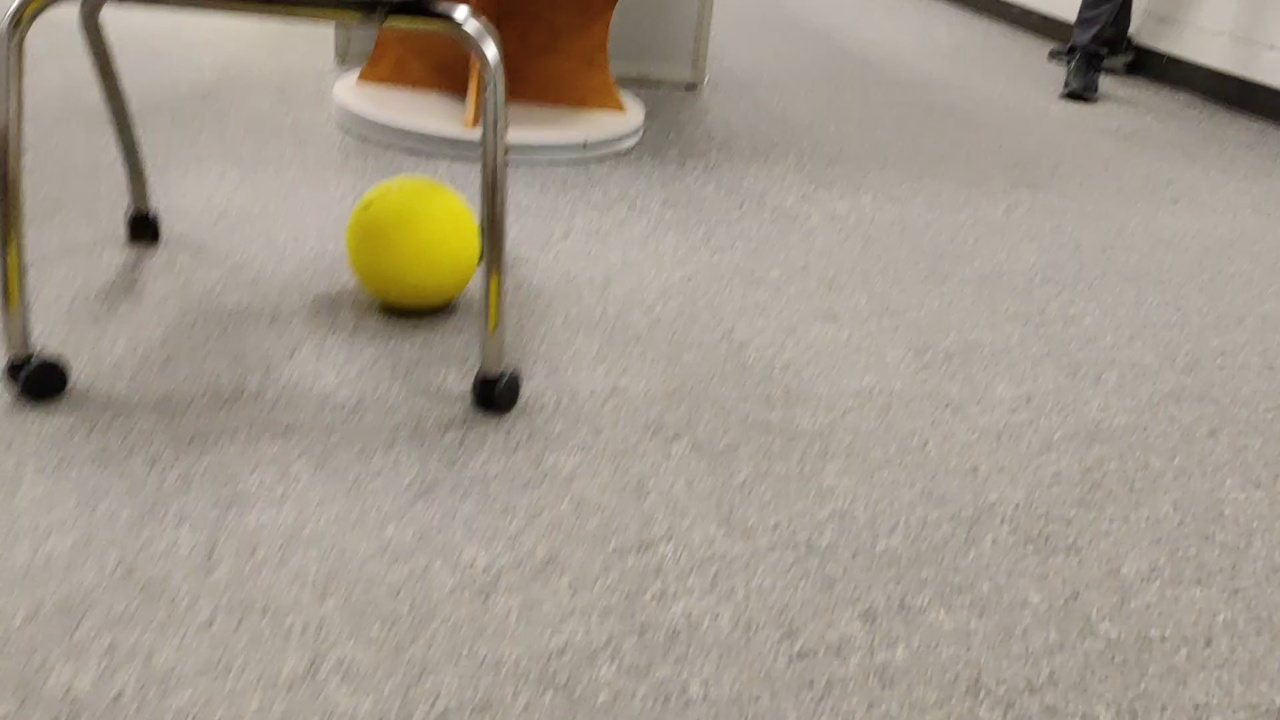Ball: (356, 174, 468, 316)
